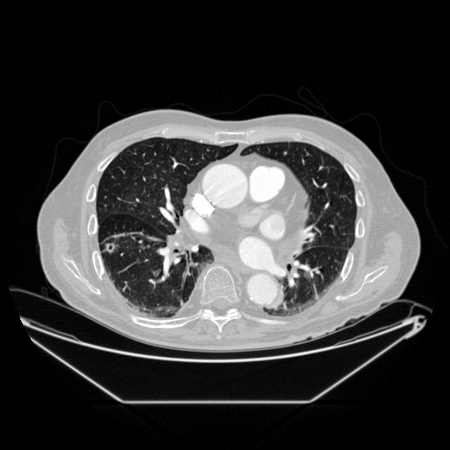nodule: (104, 242, 114, 252)
